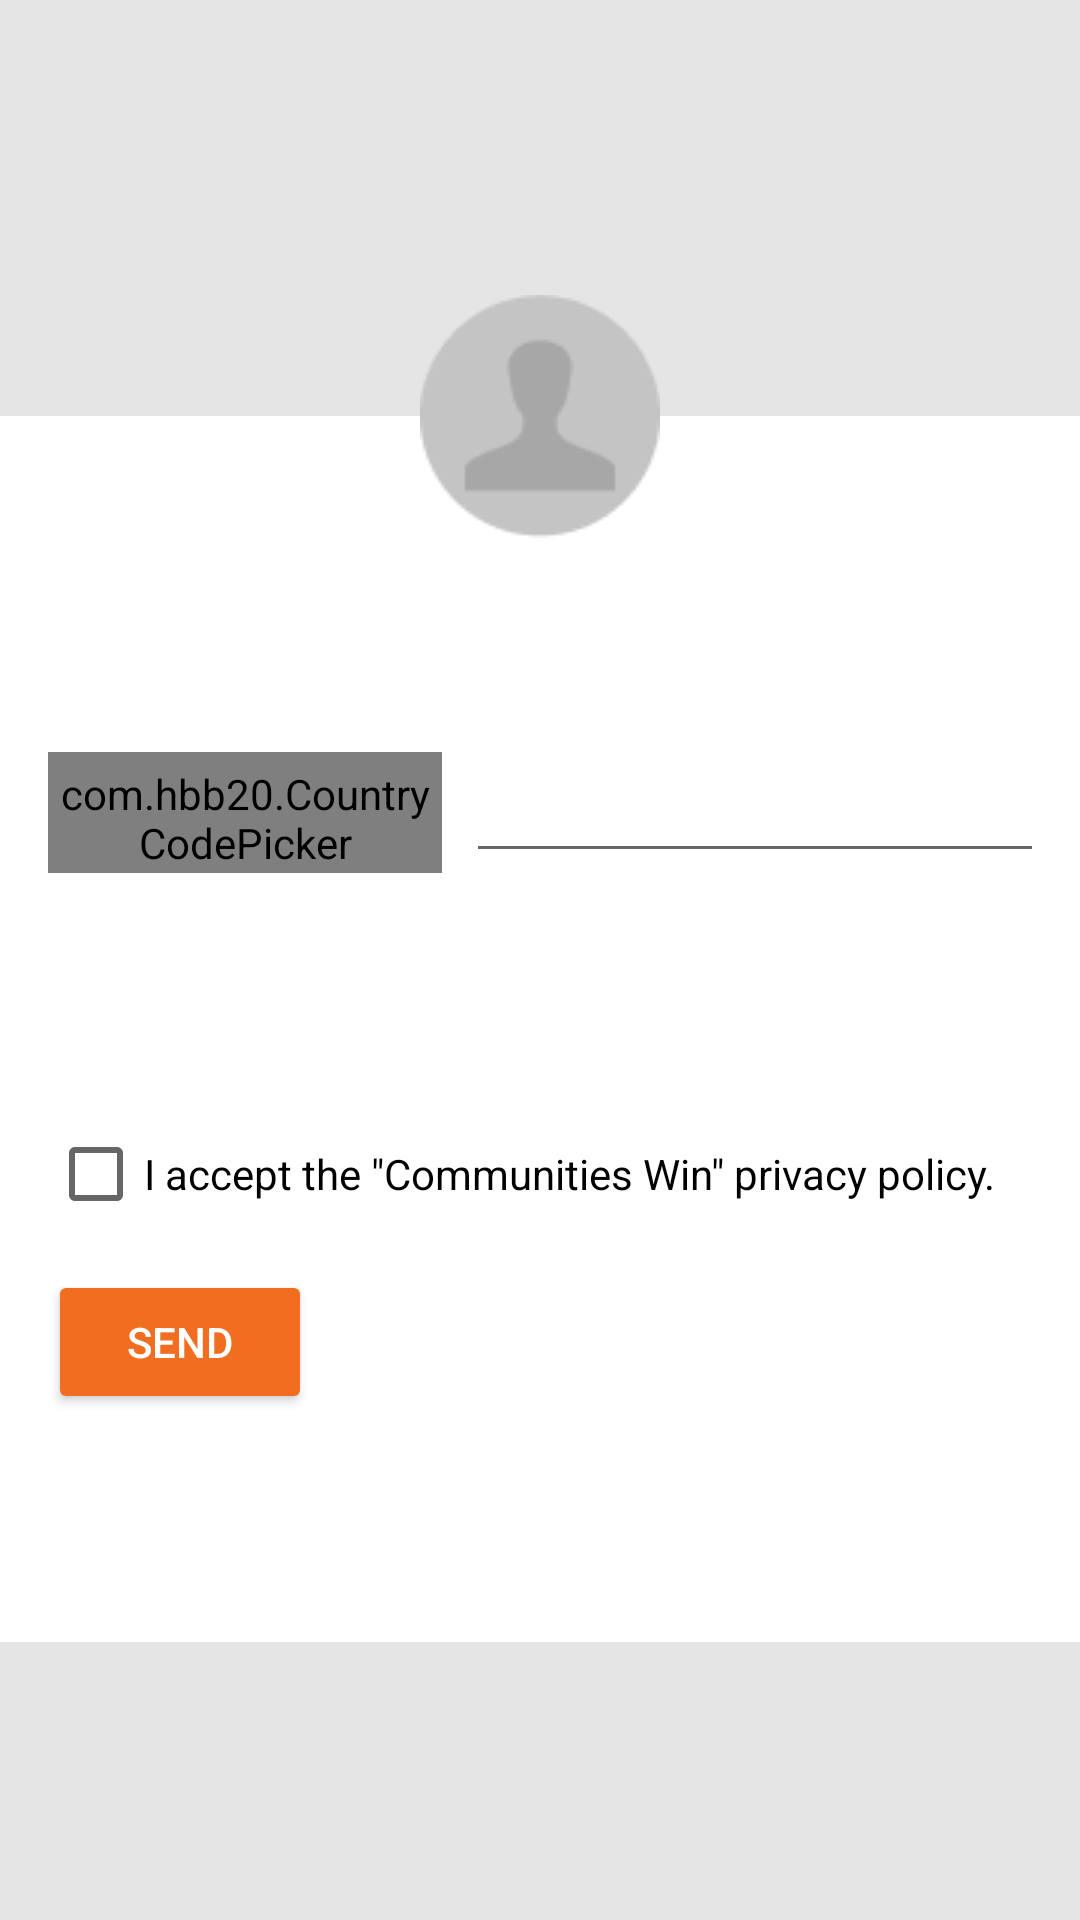

Where to tap for icons on this 1080×1920 app screen, as (x,y):
user: (540,416)
